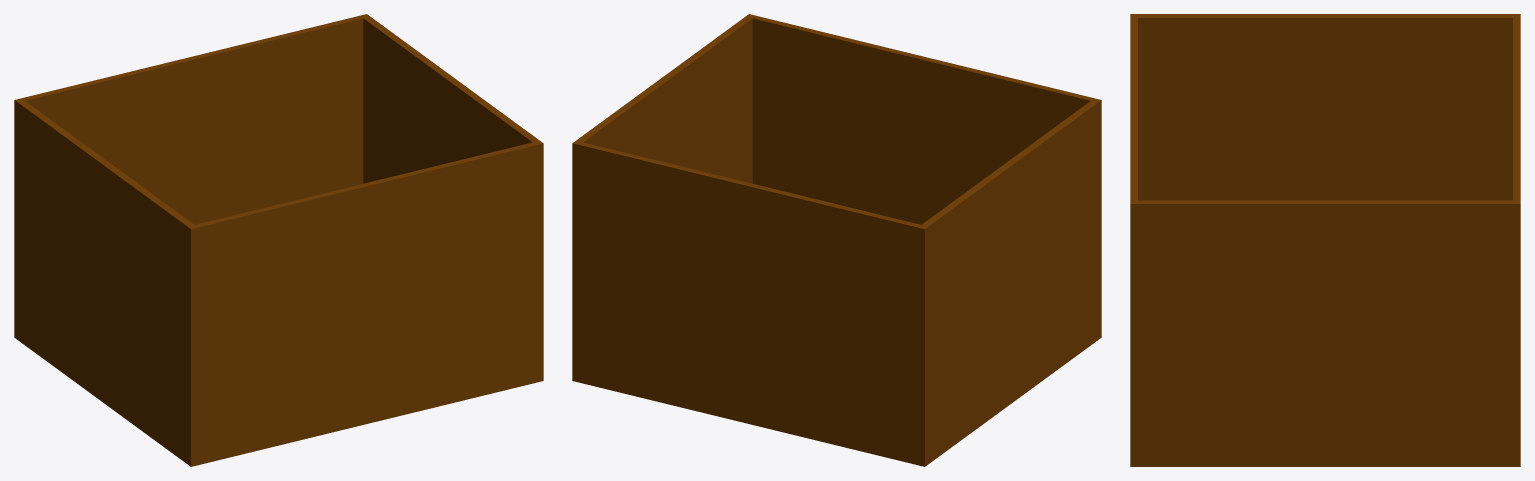
3 views of the same model, side by side, from view 1: azimuth 30°, elevation 25°; view 2: azimuth 150°, elevation 25°; view 3: azimuth 270°, elevation 25° (orthographic). The views are drawn at different scales.
Parts seen in each view (by area): view 1: Box; view 2: Box; view 3: Box.
Part boxes in pixels (left/top/right/bottom): Box: left=14, top=14, right=543, bottom=466; Box: left=572, top=14, right=1101, bottom=466; Box: left=1130, top=14, right=1520, bottom=466.
Bounding box in the file's own units: 230 × 149 × 200.
